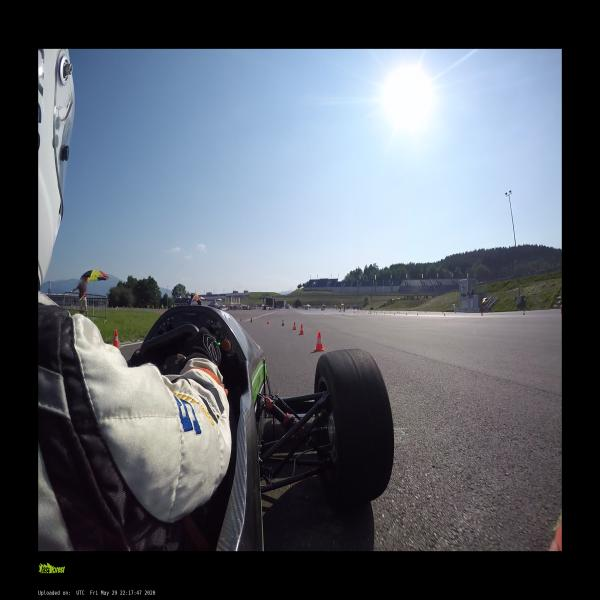orange_cone: (314, 332, 325, 352), (113, 329, 119, 346), (299, 325, 305, 334), (292, 322, 297, 330), (281, 319, 285, 326), (522, 311, 525, 316), (267, 319, 269, 324), (250, 317, 252, 322), (240, 317, 242, 321)
